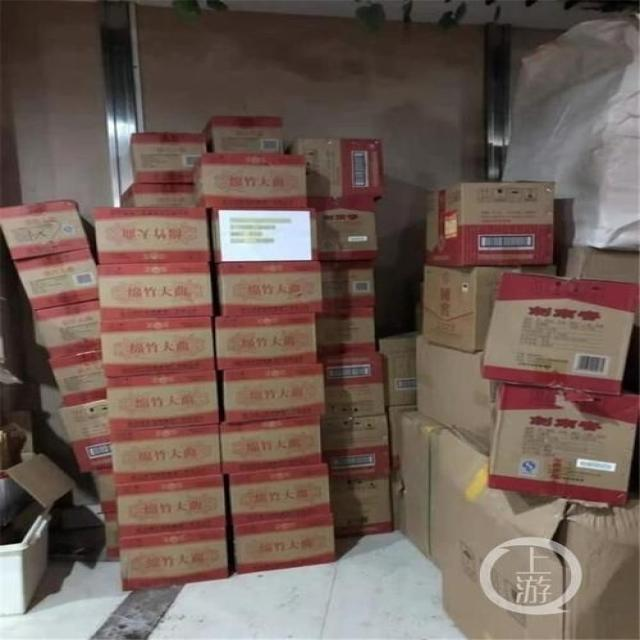box: (436, 426, 640, 640), (479, 272, 637, 396), (489, 381, 639, 503), (422, 265, 556, 352), (424, 178, 556, 266), (417, 334, 498, 455), (389, 412, 444, 572), (0, 410, 77, 509), (0, 479, 54, 615), (105, 370, 219, 434), (115, 474, 227, 538), (111, 422, 224, 485), (118, 529, 230, 592), (100, 316, 215, 377), (95, 206, 210, 265), (225, 463, 330, 527), (99, 262, 212, 319), (191, 154, 308, 208), (210, 207, 320, 264), (234, 513, 338, 572), (219, 415, 323, 474), (224, 362, 325, 422), (216, 261, 324, 316), (215, 313, 319, 370), (288, 140, 385, 197), (0, 198, 90, 259), (14, 249, 97, 310), (308, 195, 380, 262), (321, 414, 392, 481), (128, 132, 207, 186), (321, 350, 385, 416), (32, 298, 100, 358), (59, 399, 113, 470), (330, 478, 393, 537), (375, 329, 419, 406), (317, 306, 378, 361), (49, 350, 106, 408), (553, 246, 640, 284), (204, 116, 285, 154), (323, 258, 374, 309), (385, 403, 419, 471), (120, 183, 195, 208), (90, 465, 116, 512), (102, 510, 119, 560)
